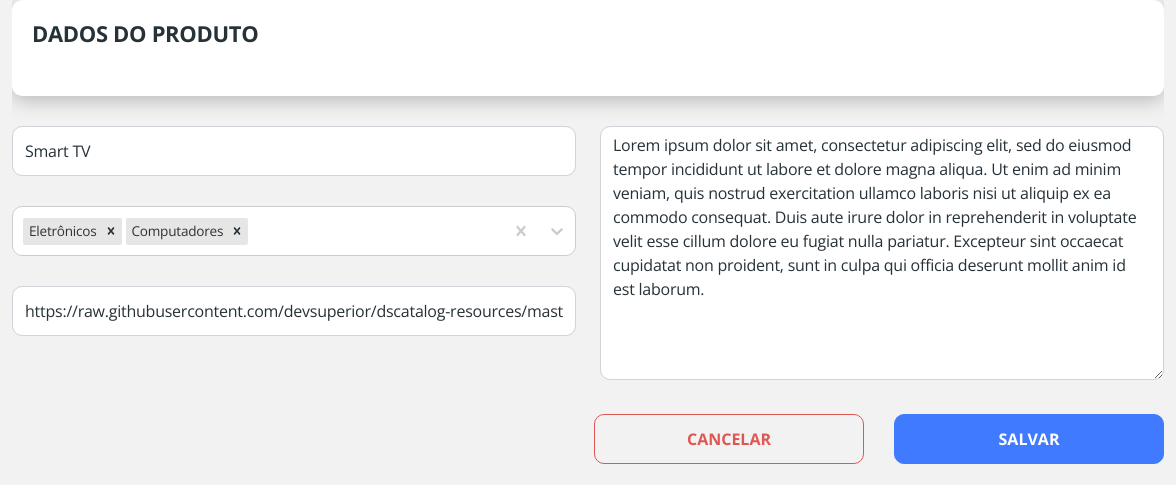
Test: Product form update tests › should show toast and redirect when submit form correctly
The image size is (1176, 485).
Check: the field with test id "name" holds "Smart TV", box [12,126,576,176]
Check: the field with test id "imgUrl" holds "https://raw.githubusercontent.com/devsuperior/dscatalog-resources/master/backend/img/2-big.jpg", box [12,286,576,336]
Click the button "SALVAR": [1029, 439] box [894,414,1164,464]
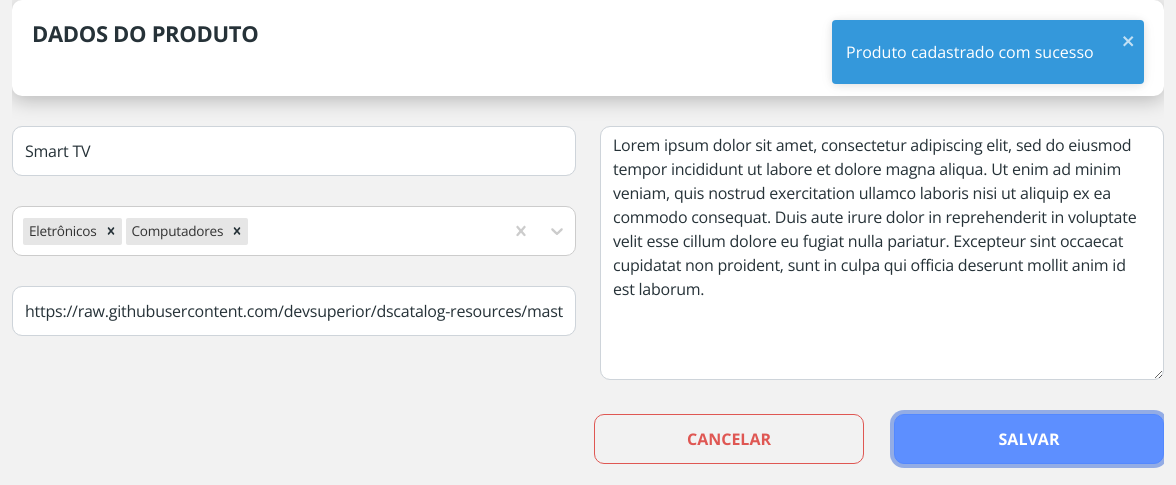
Check: the text "Produto cadastrado com sucesso" is shown, box [840,34,1122,70]
